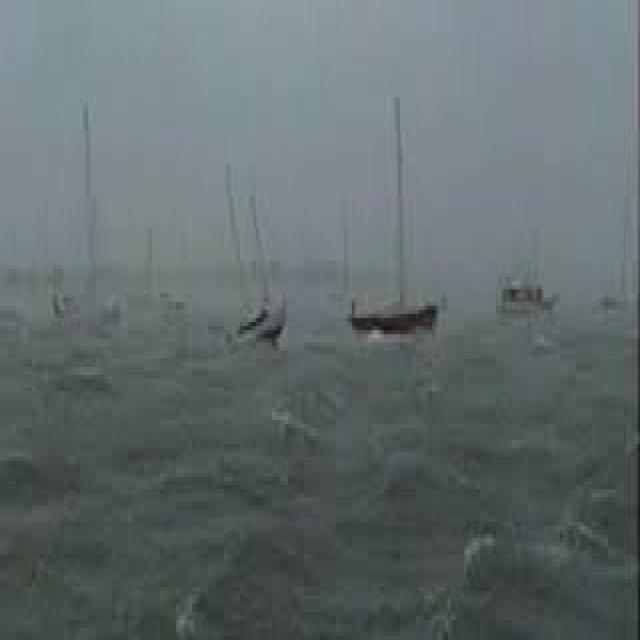fishing boat: (346, 237, 440, 334), (585, 163, 626, 313), (228, 274, 292, 341), (503, 255, 555, 325)
